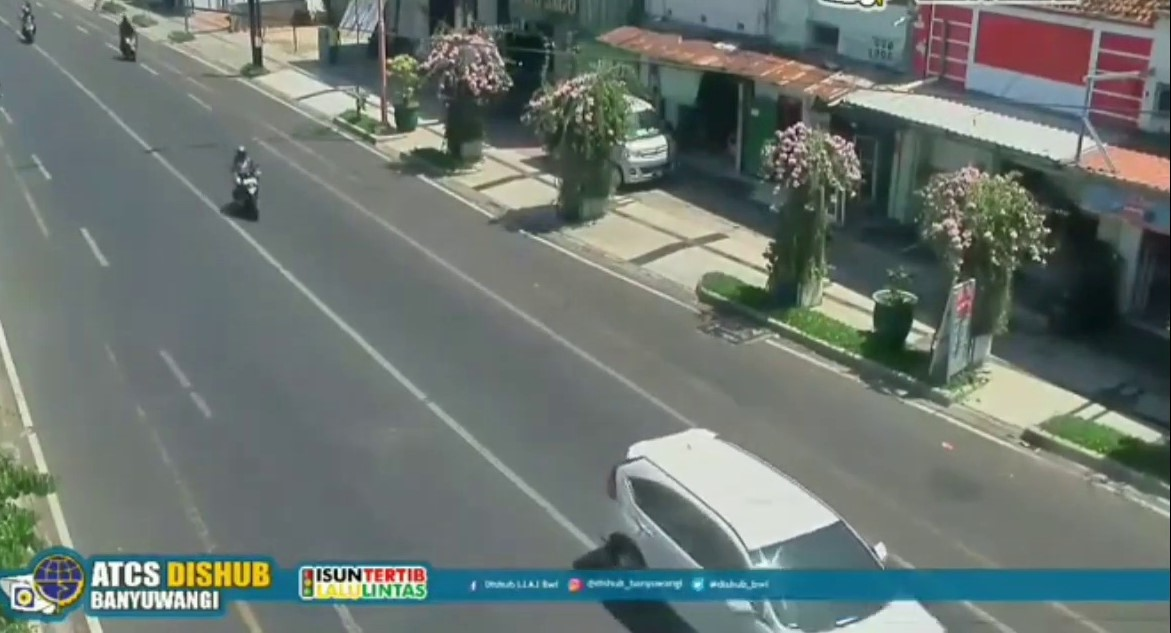car: (610, 422, 942, 633), (602, 84, 680, 188)
motorbike: (230, 147, 262, 220), (115, 15, 140, 61), (18, 5, 37, 44)
